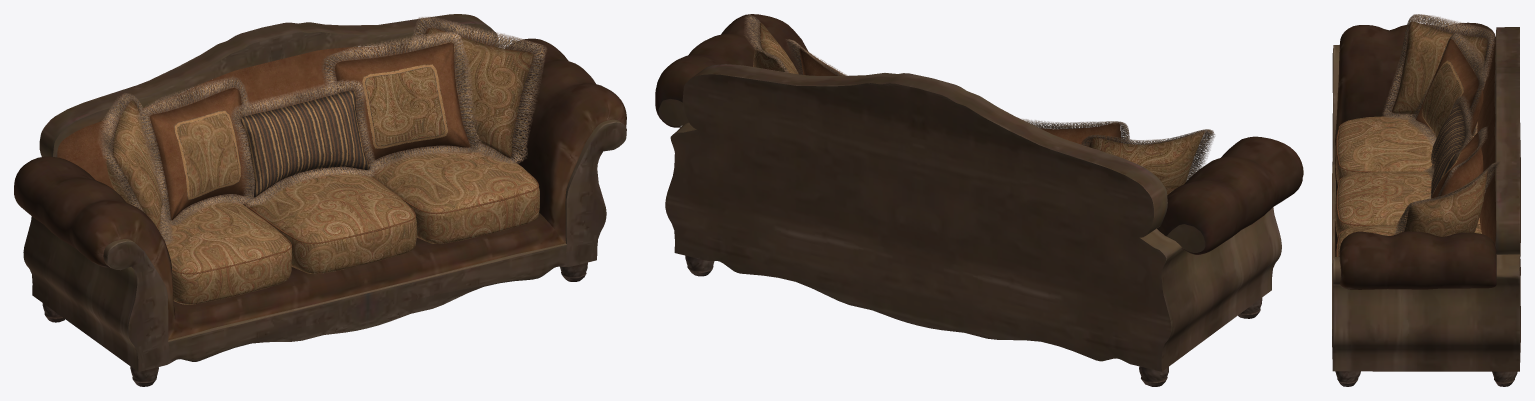
Rendered from SheenWoodLeatherSofa.glb.
3 renders of one model, left to right at view 1: azimuth 30°, elevation 25°; view 2: azimuth 150°, elevation 25°; view 3: azimuth 270°, elevation 25°, orthographic. The views are drawn at different scales.
Visible parts, largest first — view 1: Frame, Paisley, Fringe, Brown, Stripes, Frame_Fabric; view 2: Frame, Paisley, Fringe, Brown; view 3: Frame, Paisley, Fringe, Brown, Frame_Fabric, Stripes.
Part boxes in pixels (bbox=[...]): Frame: bbox=[14, 14, 626, 386]; Paisley: bbox=[106, 27, 539, 304]; Fringe: bbox=[98, 16, 546, 245]; Brown: bbox=[150, 42, 539, 274]; Stripes: bbox=[174, 64, 447, 199]; Frame_Fabric: bbox=[57, 34, 494, 189]; Frame: bbox=[655, 14, 1303, 386]; Paisley: bbox=[753, 22, 1204, 194]; Fringe: bbox=[744, 14, 1214, 181]; Brown: bbox=[799, 46, 1121, 146]; Frame: bbox=[1332, 22, 1520, 386]; Paisley: bbox=[1335, 21, 1487, 256]; Fringe: bbox=[1382, 14, 1499, 234]; Brown: bbox=[1336, 39, 1483, 256]; Frame_Fabric: bbox=[1477, 37, 1496, 244]; Stripes: bbox=[1422, 60, 1472, 197].
Size of the model in its own units: 2.73 by 1.12 by 0.9225.
6 materials, 6 textured.
